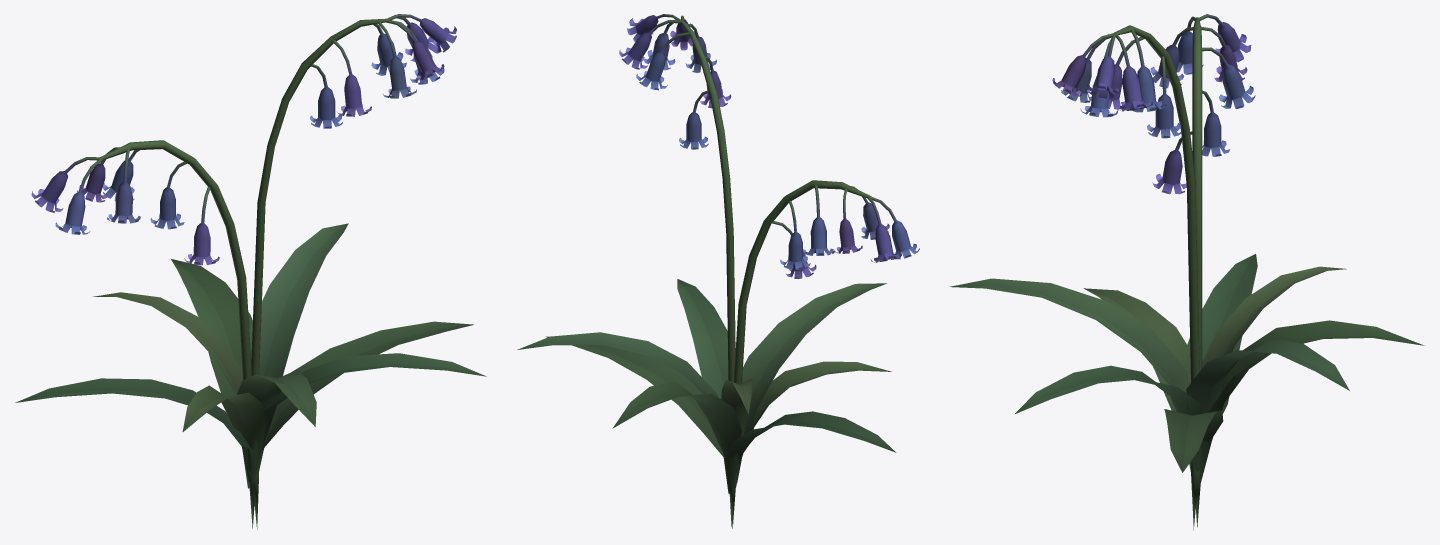
File: plants-flowers-bluebell_v3.glb
3 views of the same model, side by side, from view 1: azimuth 30°, elevation 25°; view 2: azimuth 150°, elevation 25°; view 3: azimuth 270°, elevation 25° (orthographic). The views are drawn at different scales.
Visible parts, largest first — view 1: Bluebell_v3; view 2: Bluebell_v3; view 3: Bluebell_v3.
Part boxes in pixels (<box>): Bluebell_v3: <box>15,14,486,529</box>; Bluebell_v3: <box>517,14,919,528</box>; Bluebell_v3: <box>949,14,1424,530</box>.
Bounding box in the file's own units: 0.3005 × 0.35 × 0.276.
